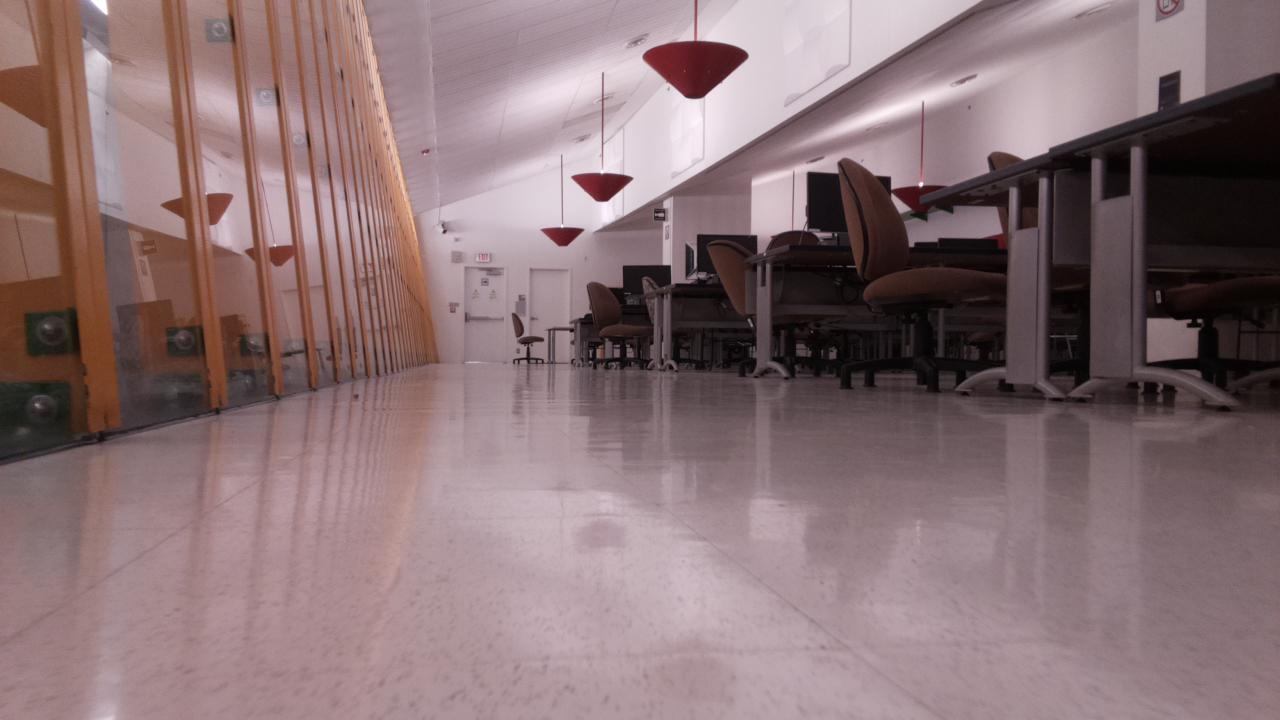door: (464, 267, 503, 362), (530, 270, 567, 363)
sign: (654, 209, 664, 220), (476, 253, 489, 261)
tvmonitor: (622, 266, 670, 289)
